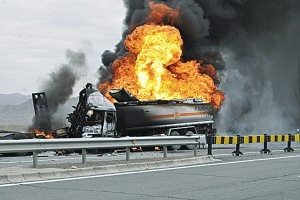fire: (98, 2, 224, 107), (31, 128, 54, 138)
